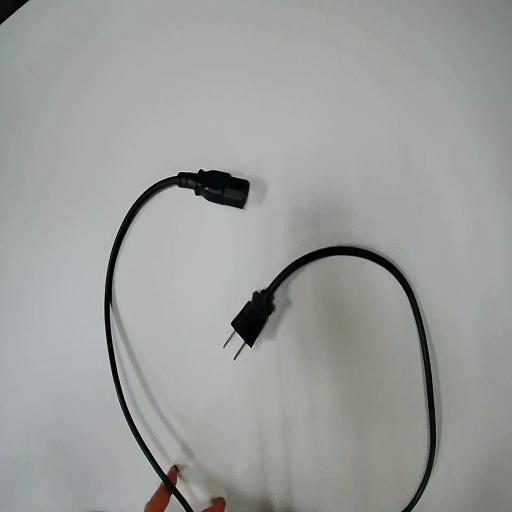wire: (232, 246, 435, 511), (105, 171, 248, 511)
